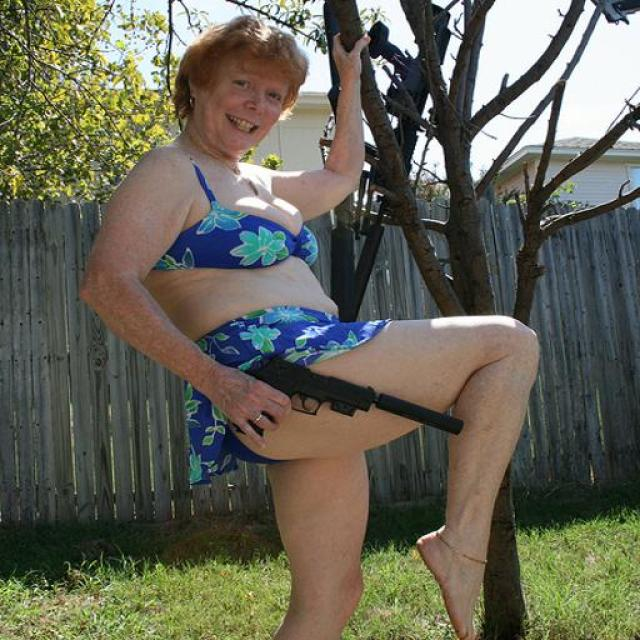pistol: (230, 352, 376, 442)
